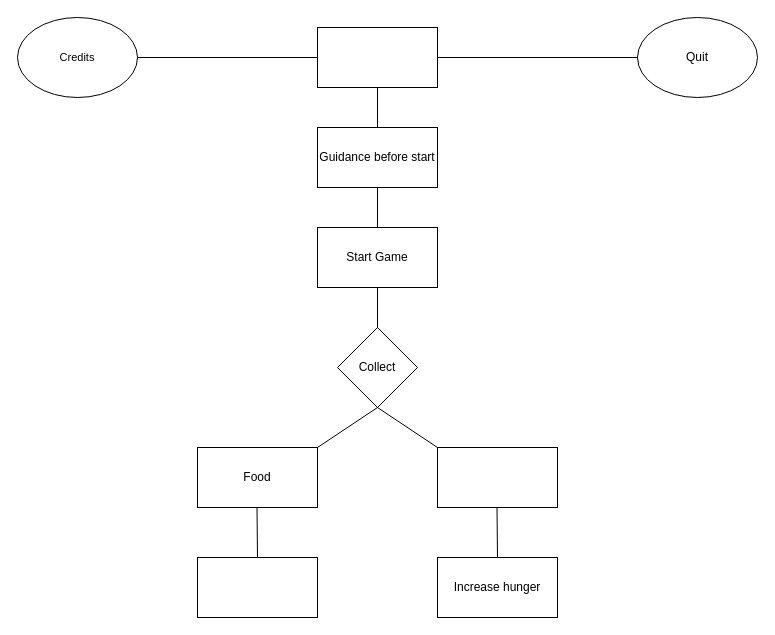
Image size: 775x635. Some labels were removed from this diagram. Here are the shapes that lost their labels. From the top down, the centre of each, then its label:
point 377,57: Main Menu
point 497,477: Poop
point 257,587: Reduce hunger
